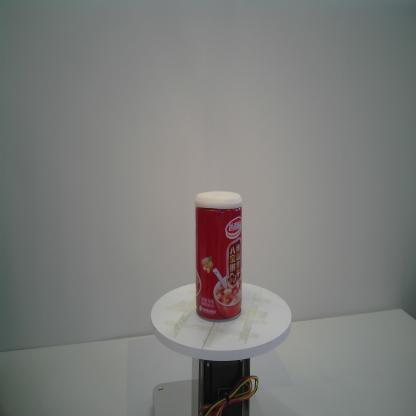Canned Food: (194, 190, 244, 324)
